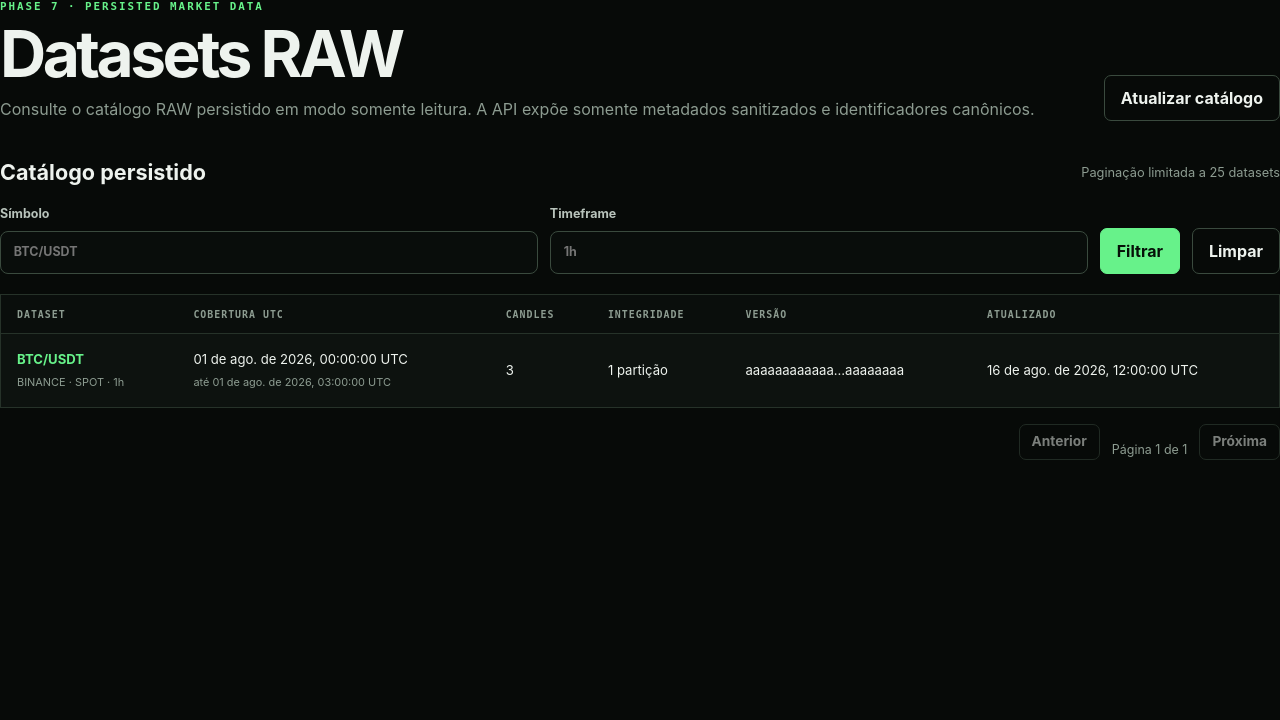
Test case: RawDatasetsPage › carrega quality persistida pelo dataset_id sem expor storage
Click the button with aria-label "Inspecionar dataset BTC/USDT 1h": (50, 360) x1=17 y1=350 x2=84 y2=370
(page scrolled)
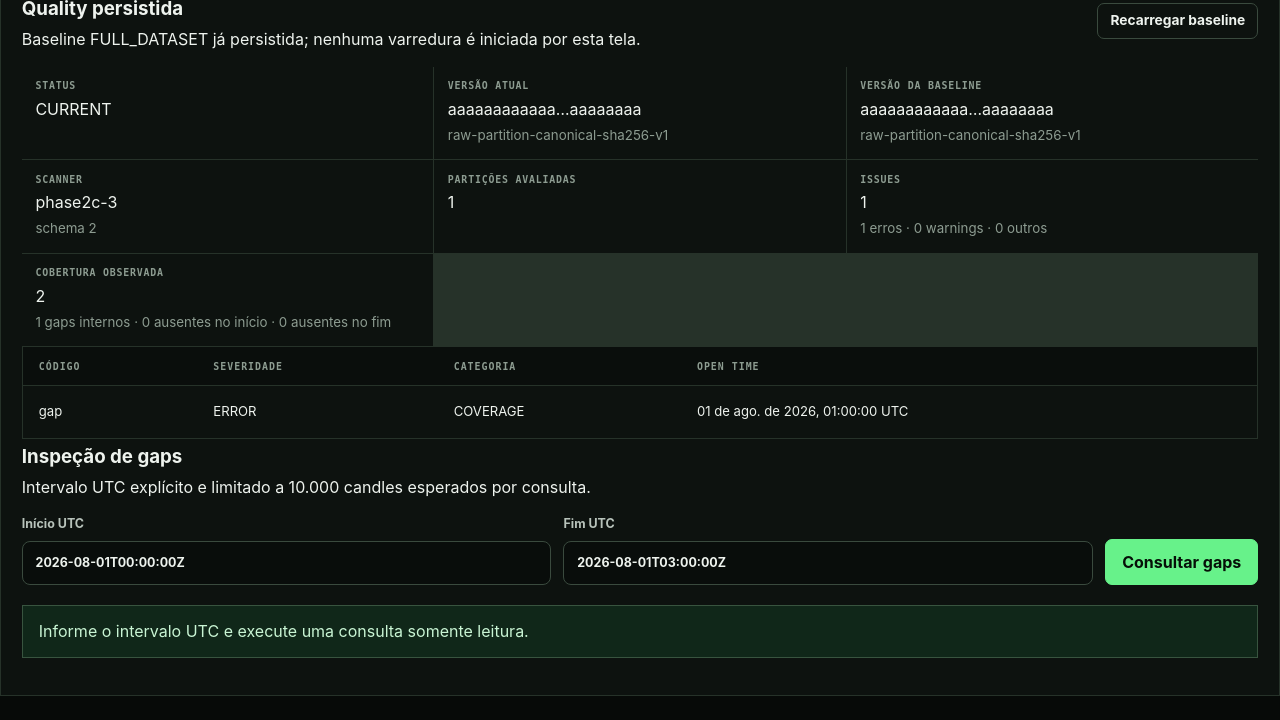
Expected: the text "CURRENT" is shown, x1=35 y1=99 x2=112 y2=119
Expected: the text "phase2c-3" is shown, x1=35 y1=192 x2=117 y2=212
Expected: the text "gap" is shown, x1=23 y1=386 x2=197 y2=438
